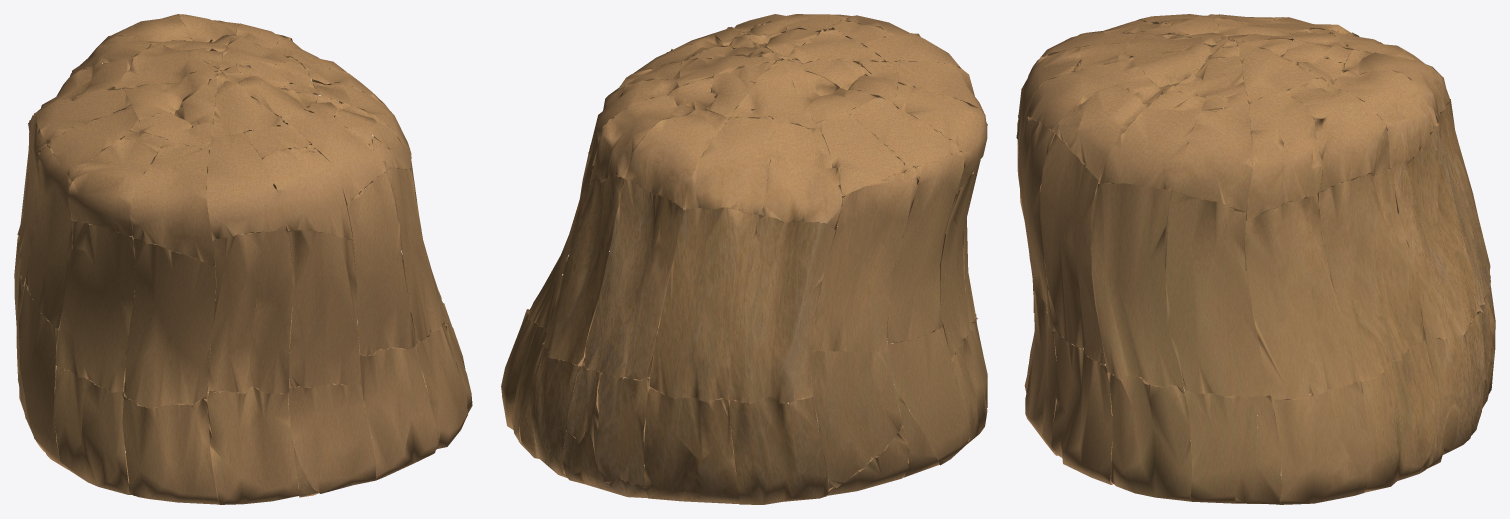
File: cliff_rock.glb
3 renders of one model, left to right at view 1: azimuth 30°, elevation 25°; view 2: azimuth 150°, elevation 25°; view 3: azimuth 270°, elevation 25°, orthographic. The views are drawn at different scales.
Visible parts, largest first — view 1: cliff_rock; view 2: cliff_rock; view 3: cliff_rock.
Boxes of the visible parts, <box> form: cliff_rock: <box>14,14,472,504</box>; cliff_rock: <box>501,14,987,504</box>; cliff_rock: <box>1016,14,1495,504</box>.
Size of the model in its own units: 2.03 by 1.71 by 2.06.
Materials: 1 (1 with a texture image).
